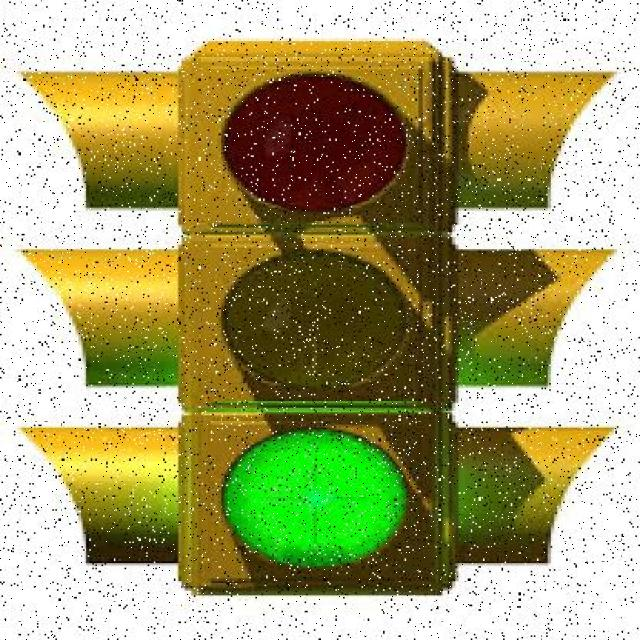green-light: (150, 33, 529, 596)
